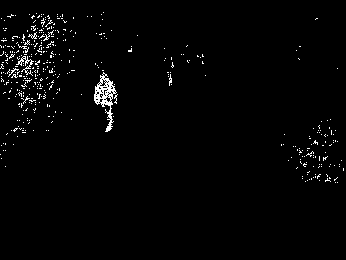person: (94, 72, 118, 133), (162, 49, 175, 87)
